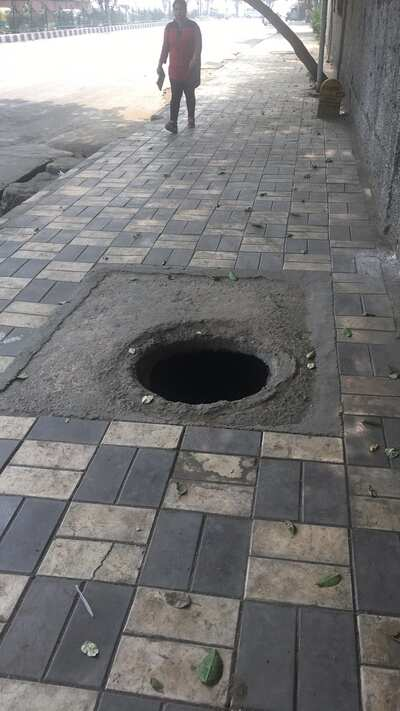Open_manhole: (89, 284, 311, 426)
Person: (140, 4, 207, 145)
